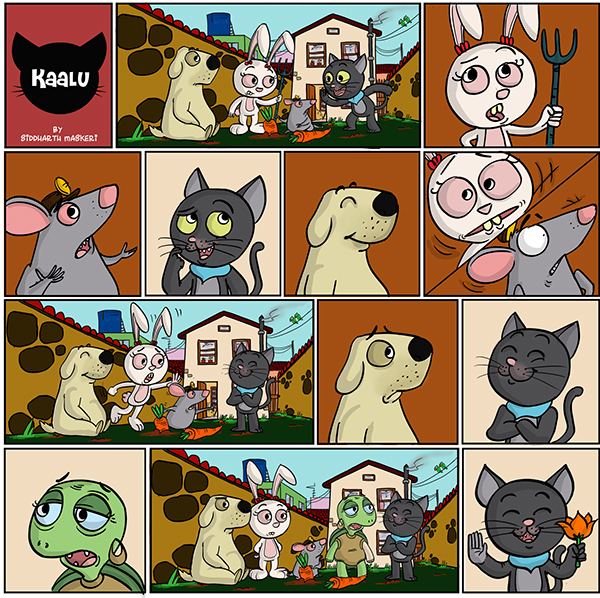cat: (462, 462, 592, 595), (155, 164, 276, 298), (481, 308, 591, 447), (315, 50, 398, 138), (223, 338, 278, 439), (378, 483, 432, 582)
dog: (326, 323, 437, 445), (295, 180, 405, 298), (38, 346, 119, 442), (148, 46, 225, 142), (176, 497, 256, 585)
